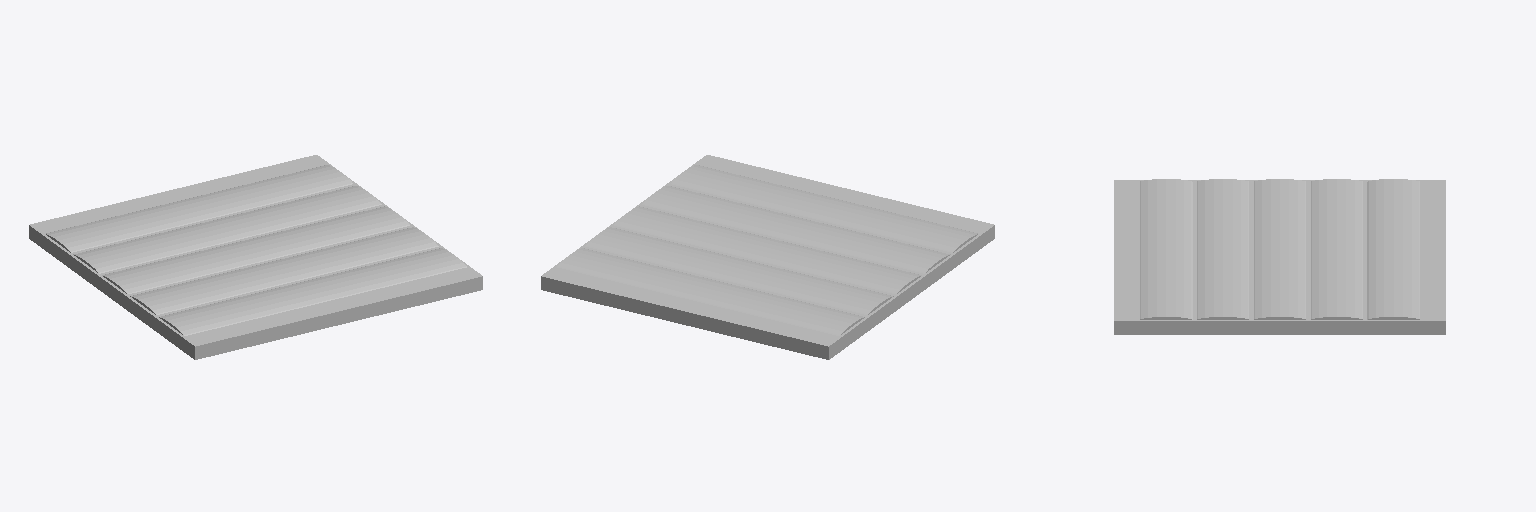
Rendered from tiledSoil.obj.
3 renders of one model, left to right at view 1: azimuth 30°, elevation 25°; view 2: azimuth 150°, elevation 25°; view 3: azimuth 270°, elevation 25°, orthographic.
Visible parts, largest first — view 1: pCylinder6; view 2: pCylinder6; view 3: pCylinder6.
Boxes of the visible parts, x1=… form: pCylinder6: x1=29, y1=155, x2=482, y2=359; pCylinder6: x1=541, y1=155, x2=994, y2=359; pCylinder6: x1=1114, y1=179, x2=1445, y2=334.
Bounding box in the file's own units: 5.85 × 0.3181 × 5.85.